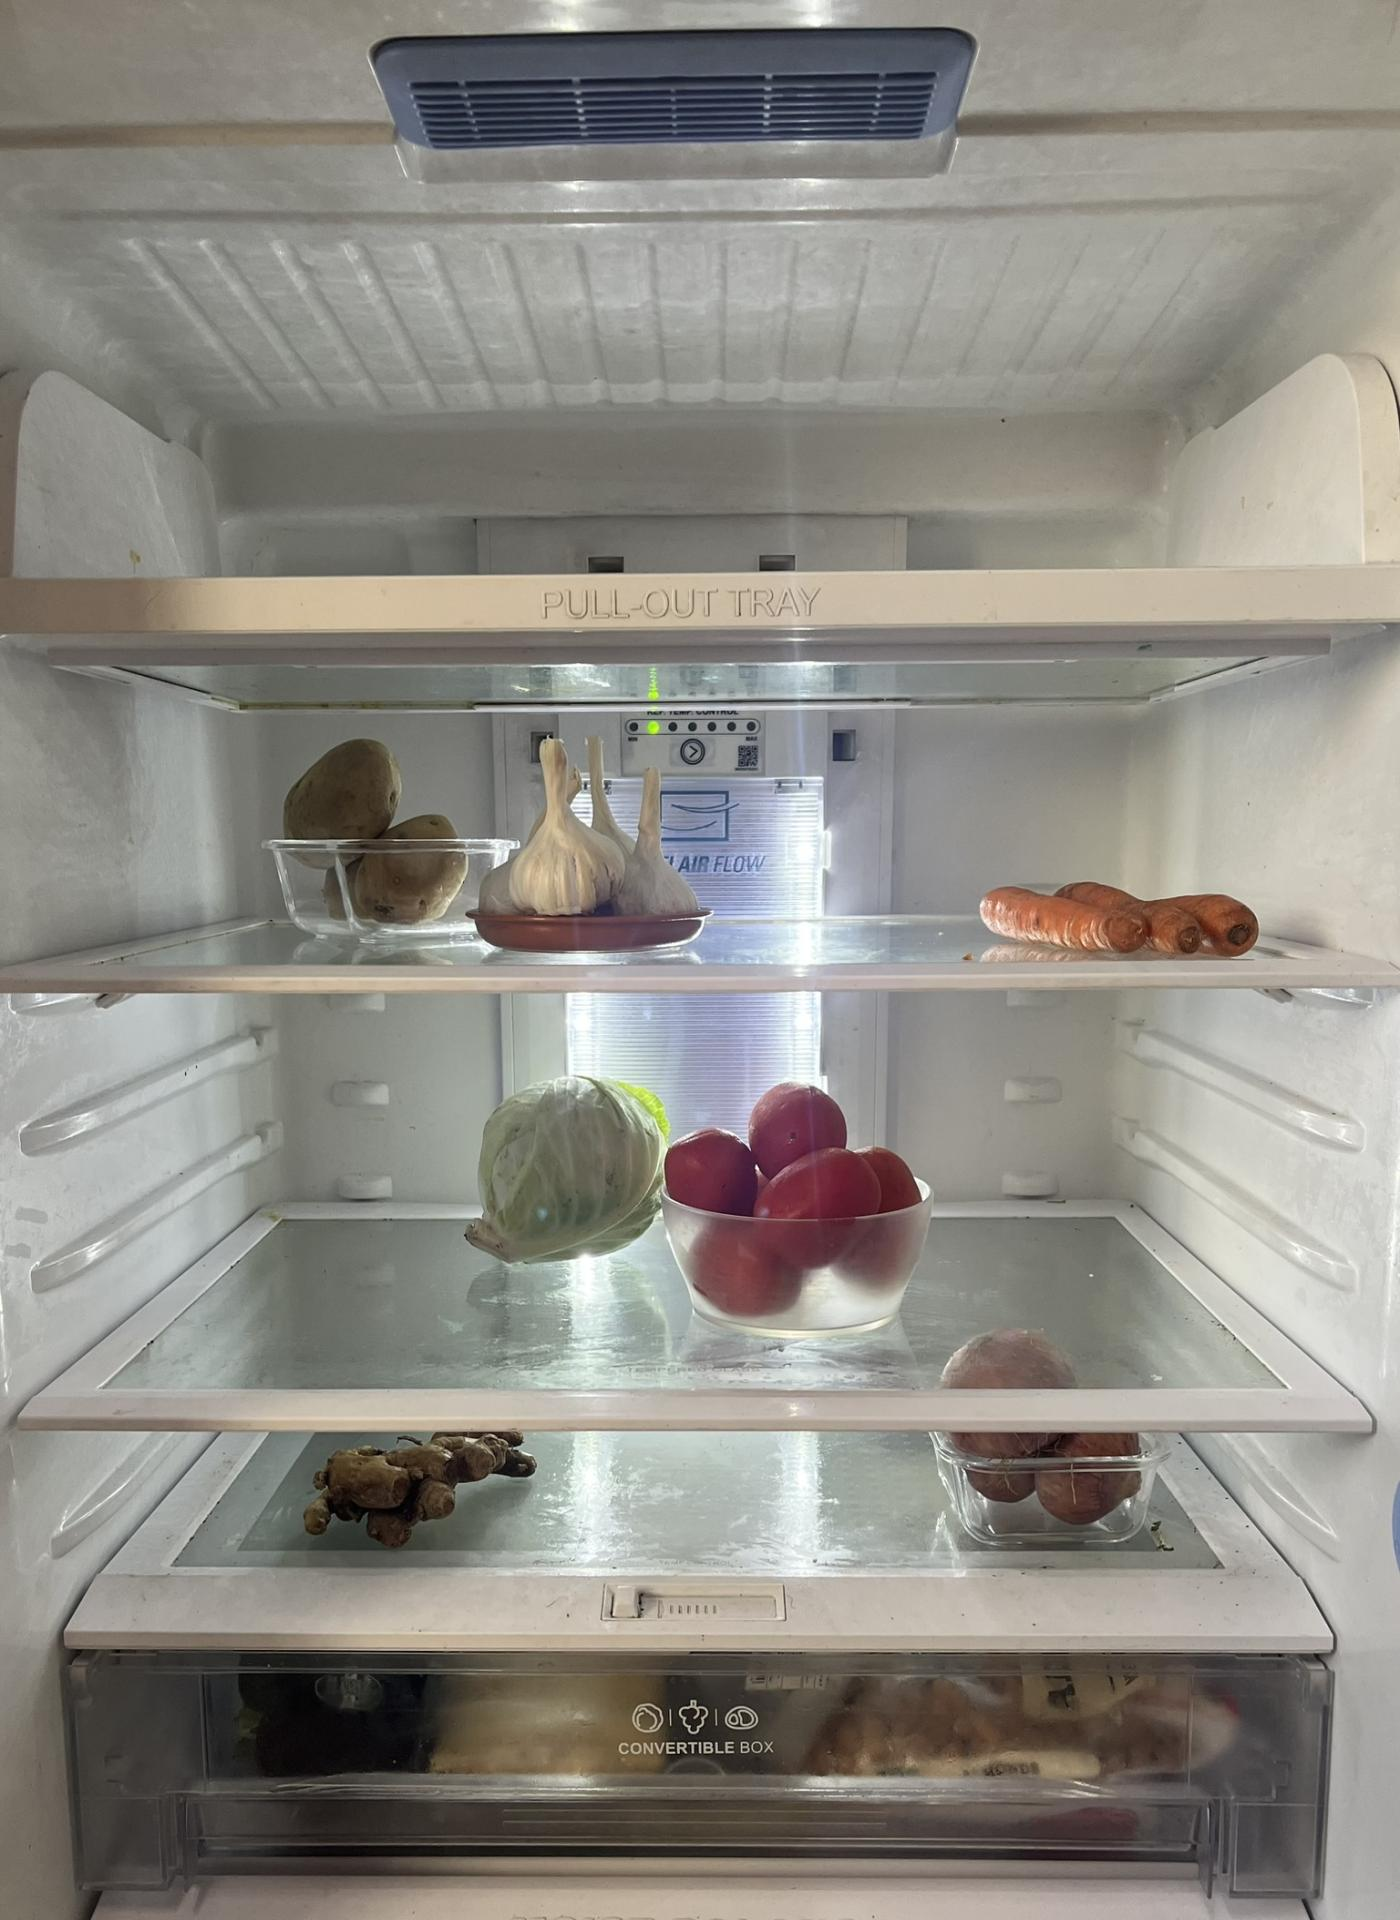cabbage: (473, 1076, 656, 1264)
carrots: (980, 877, 1260, 956)
garlic: (485, 733, 692, 926)
ginger: (298, 1431, 534, 1553)
onion: (939, 1328, 1148, 1516)
potato: (280, 738, 476, 930)
tomato: (660, 1078, 915, 1307)
